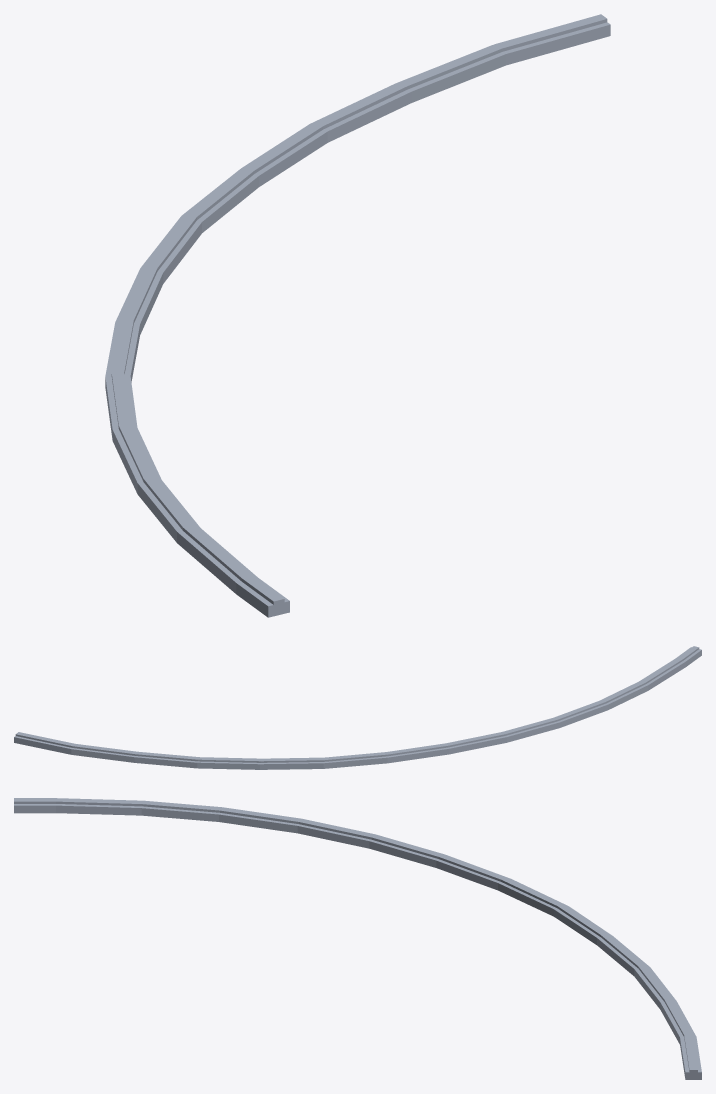
The model's file is curveopen.fbx.
The picture shows the model from 3 angles, top to bottom: view 1: azimuth 30°, elevation 25°; view 2: azimuth 150°, elevation 25°; view 3: azimuth 270°, elevation 25°; orthographic projection. The views are drawn at different scales.
Visible parts, largest first — view 1: monorail_trackStraight; view 2: monorail_trackStraight; view 3: monorail_trackStraight.
Part boxes in pixels (x1,y1,x2,y2): monorail_trackStraight: [105, 14, 610, 617]; monorail_trackStraight: [14, 646, 701, 769]; monorail_trackStraight: [14, 798, 701, 1079].
Size of the model in its own units: 307 by 5.12 by 326.
